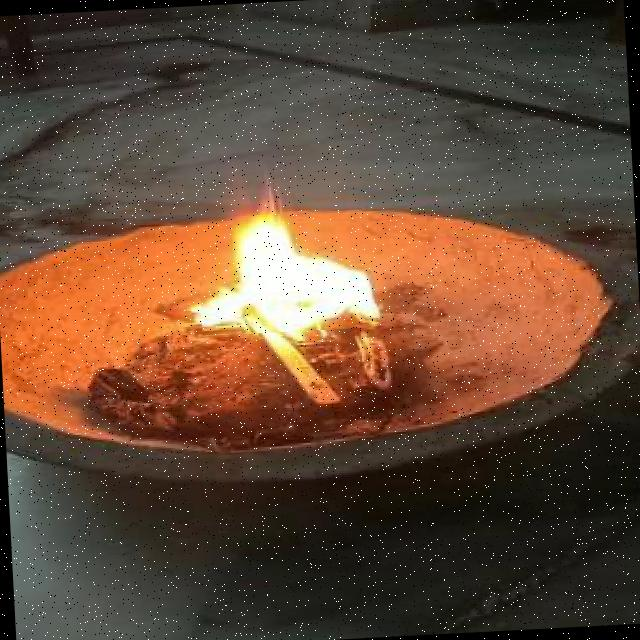fire: (196, 208, 396, 336)
